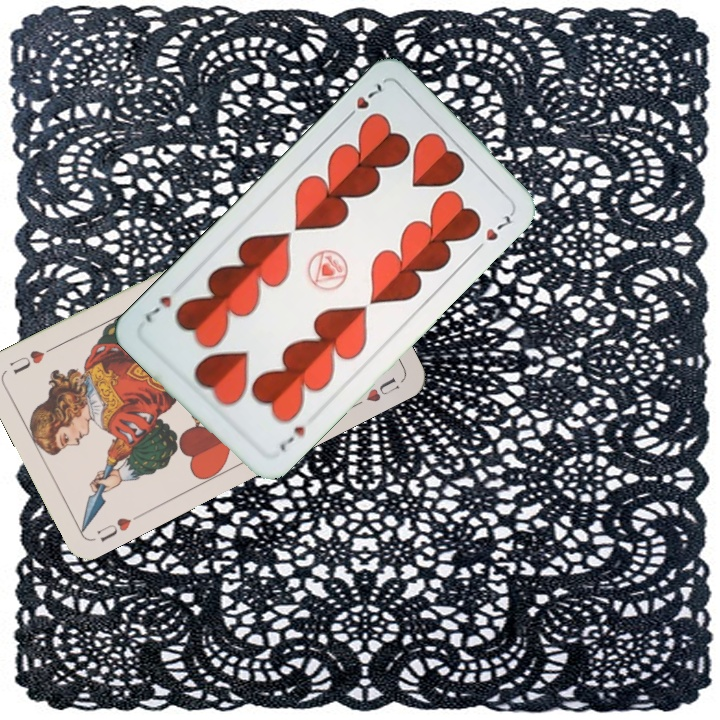H7: (340, 78, 385, 125), (275, 422, 309, 454)
HU: (92, 513, 134, 545)
